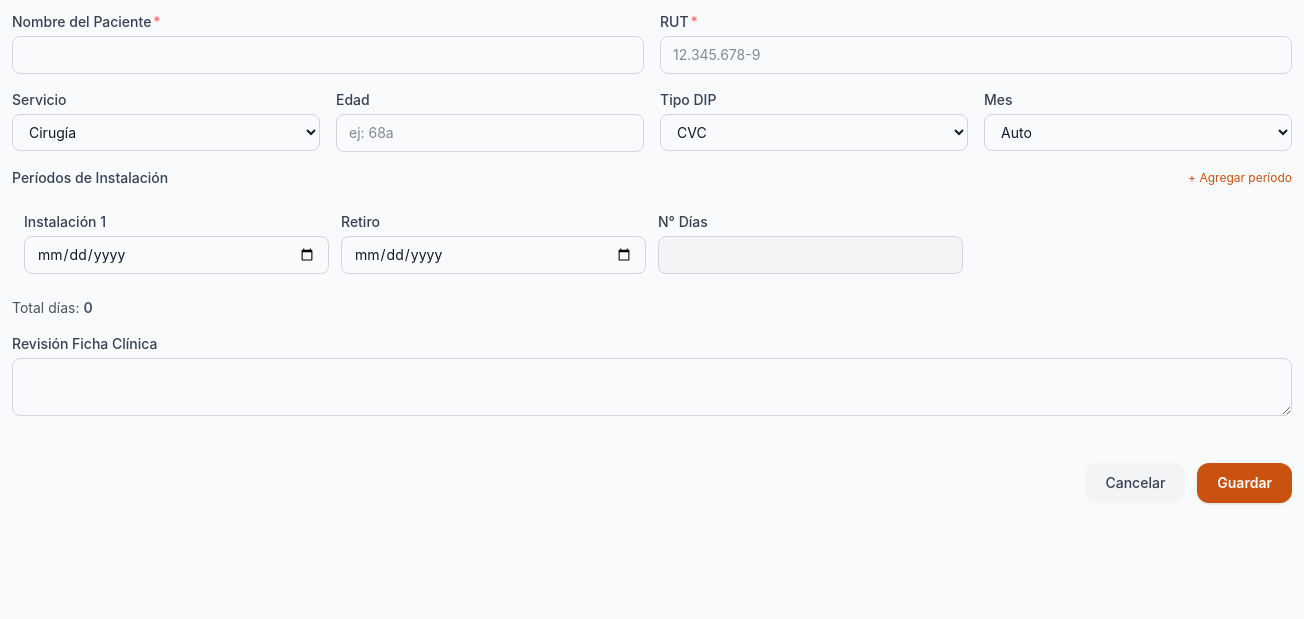
it: DipForm › can remove a periodo
The width and height of the screenshot is (1304, 619).
Add a second periodo first
Click the button "+ Agregar período" at (1240,178), box x1=1188 y1=170 x2=1292 y2=186
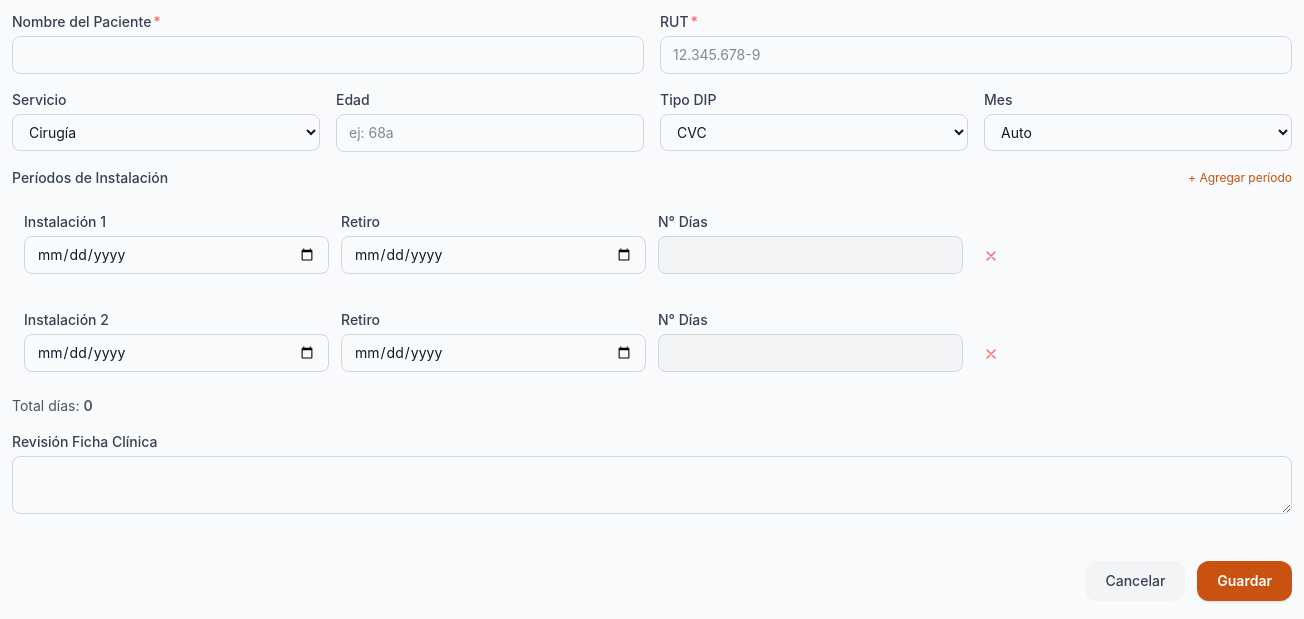
Expected: the text "Instalación 2" is shown, x1=24 y1=311 x2=109 y2=328
Expected: the number of buttons named "Eliminar período" is 2
Click the 2nd button named "Eliminar período" at (991,354), box x1=975 y1=338 x2=1007 y2=370
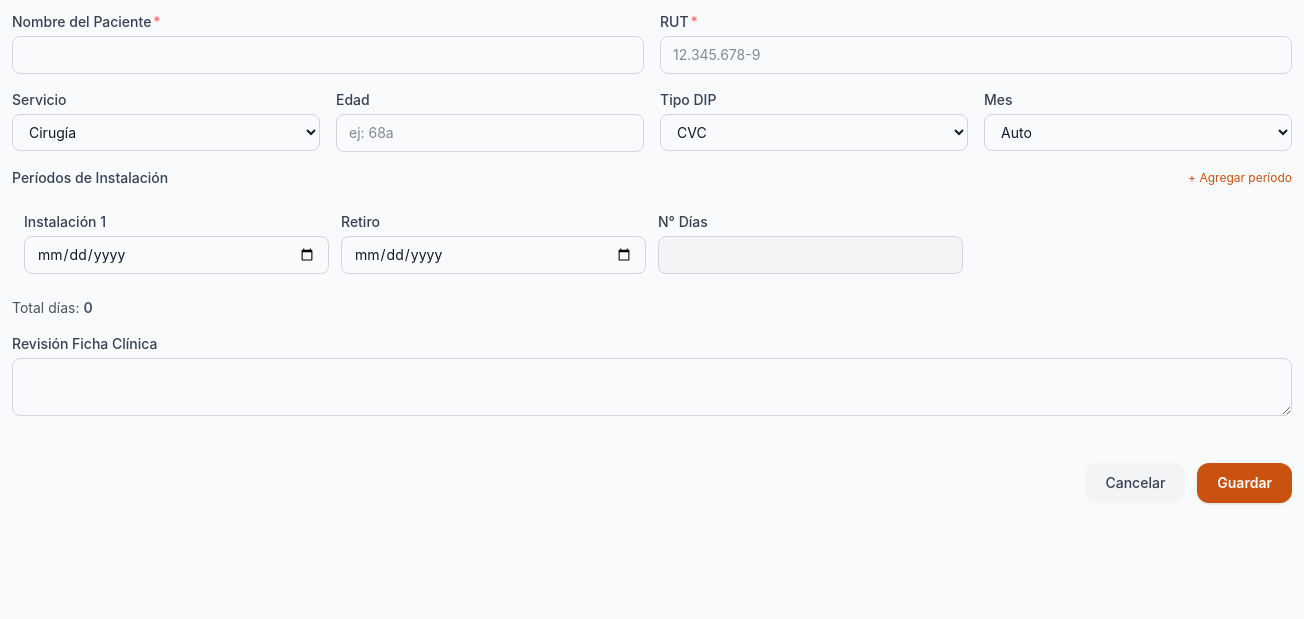
Expected: the text "Instalación 2" is gone
